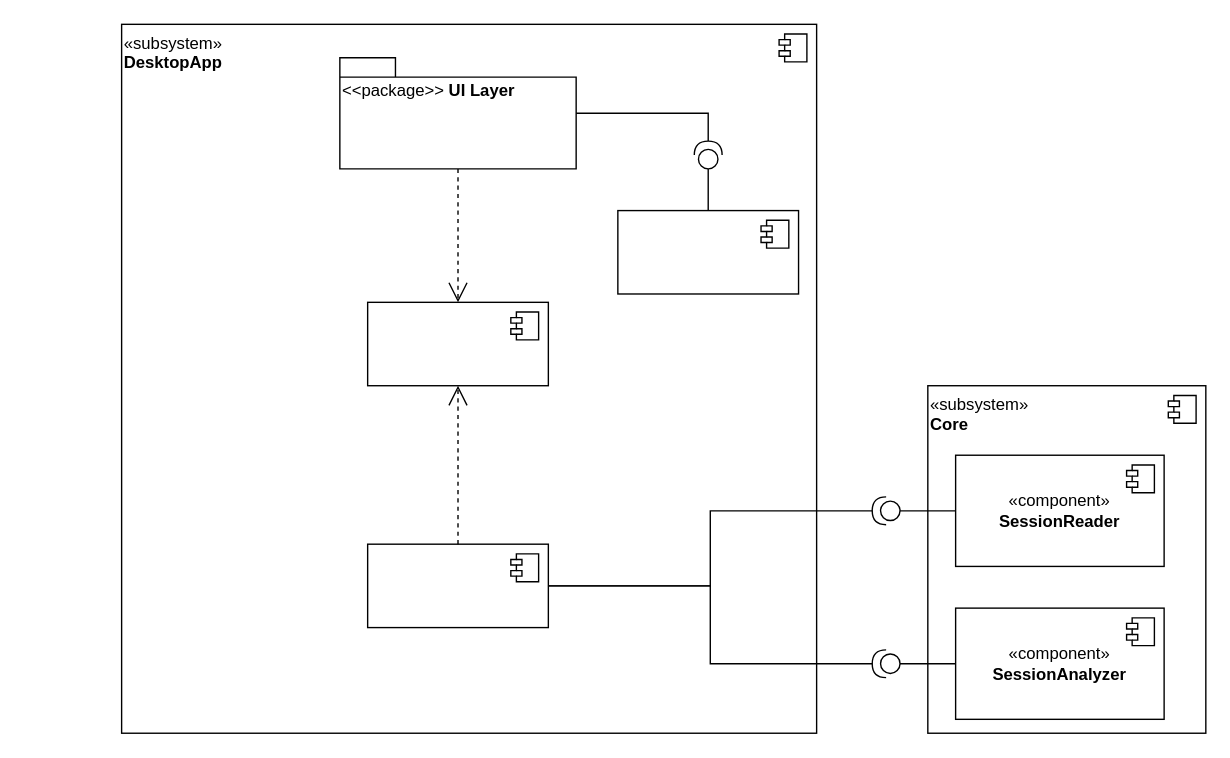
Image size: 1230x758. Some labels were removed from this diagram. The centre of each missing label's shape, as x and y in pixels:
«component» AnalyzeService: the point at 457,585
«component» DataRepository: the point at 457,343
«component» FileManager: the point at 707,251
